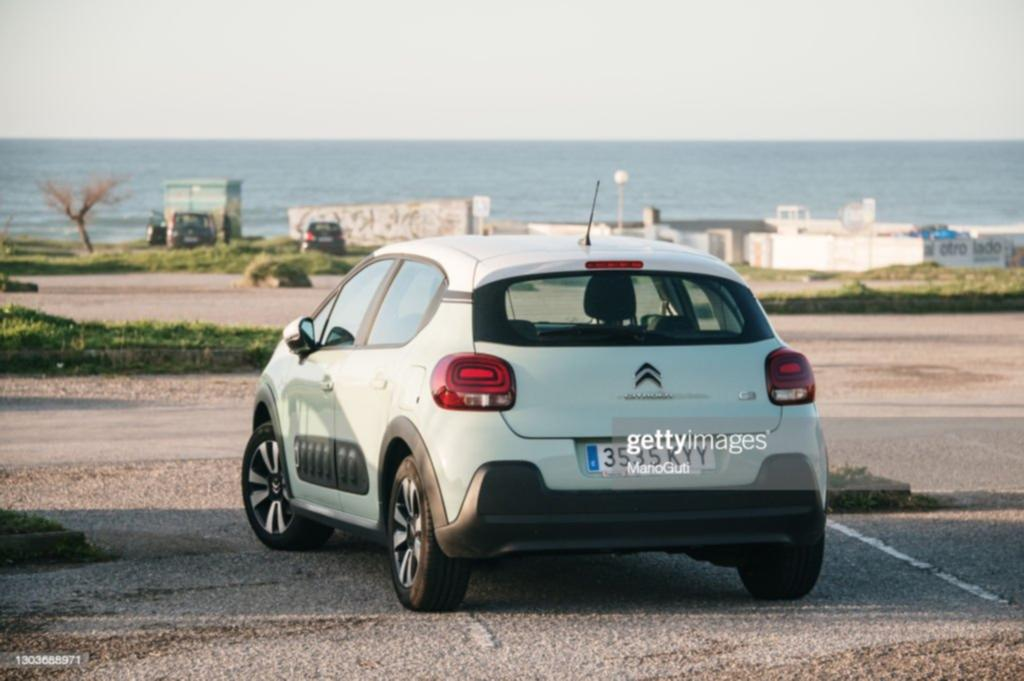Citroen: (614, 355, 684, 408)
